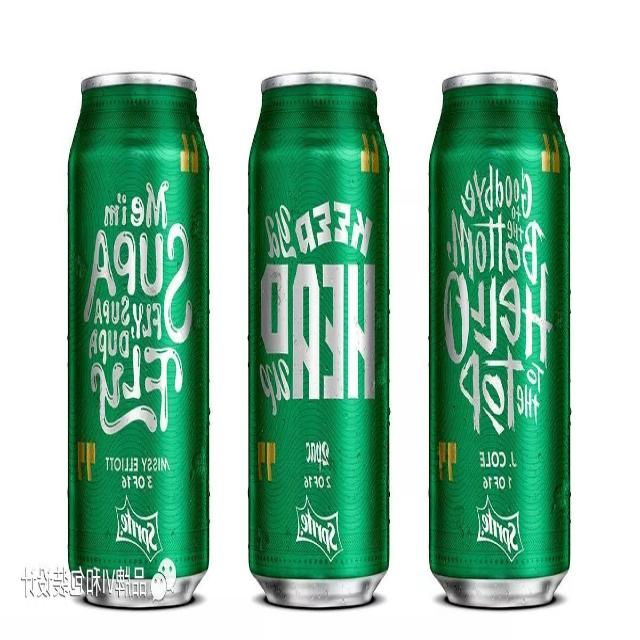metal: (430, 72, 570, 608), (69, 72, 209, 608), (249, 72, 389, 606)
